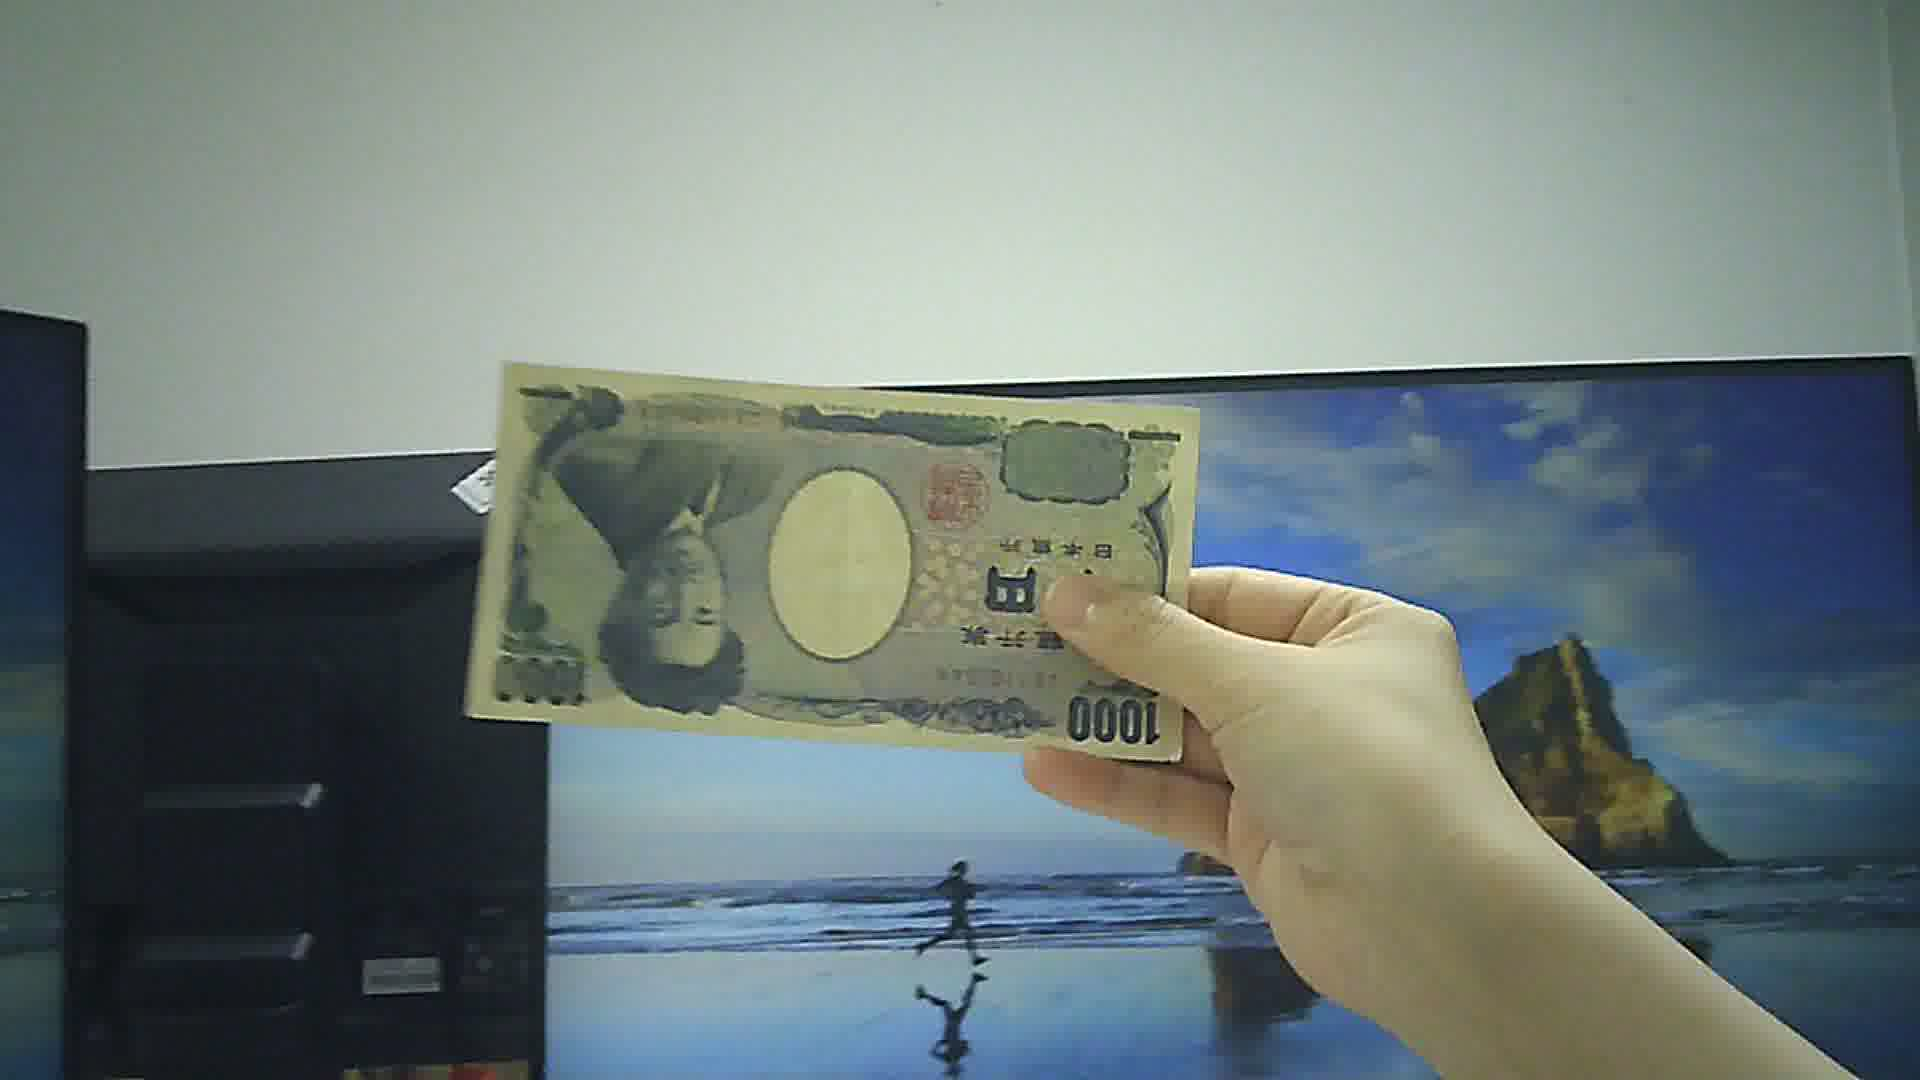1,000 Yen: (469, 347, 1203, 769)
